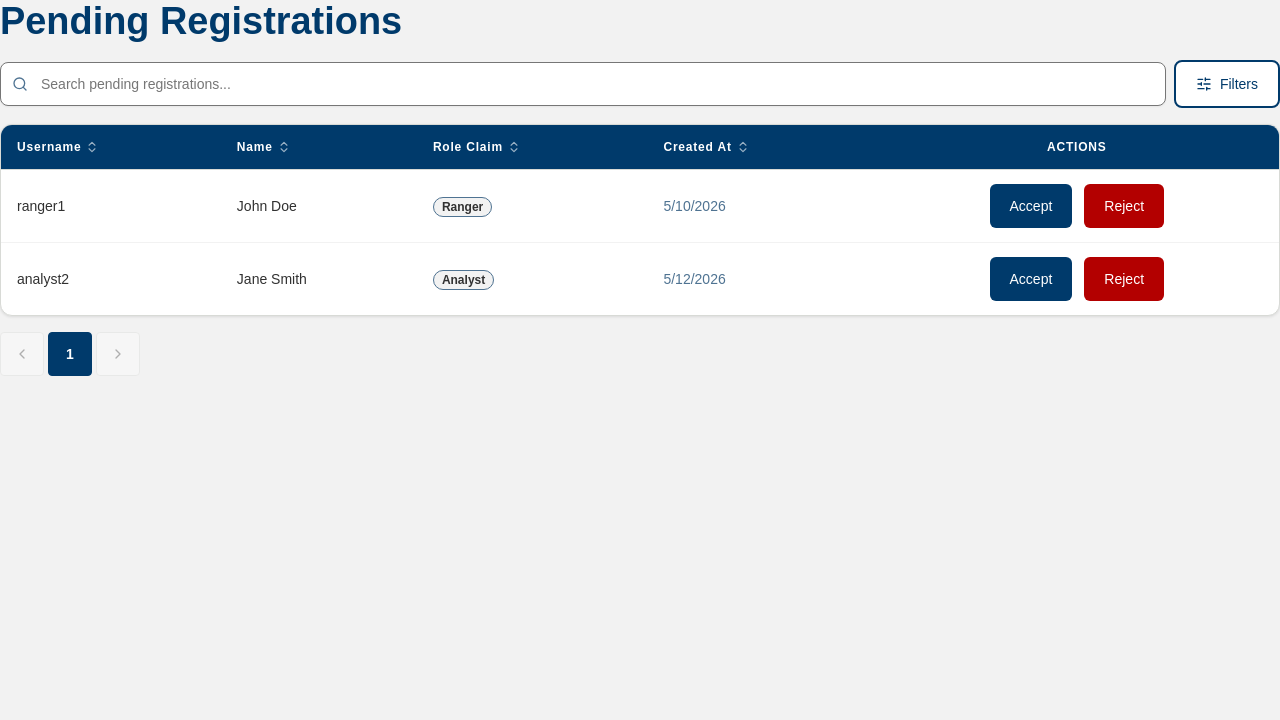
Authpage - Pending Registrations › closes the accept confirmation via the header close button
The image size is (1280, 720).
Click the button "Accept" in the row of "ranger1": coordinates (1031, 206) [988,182,1074,230]
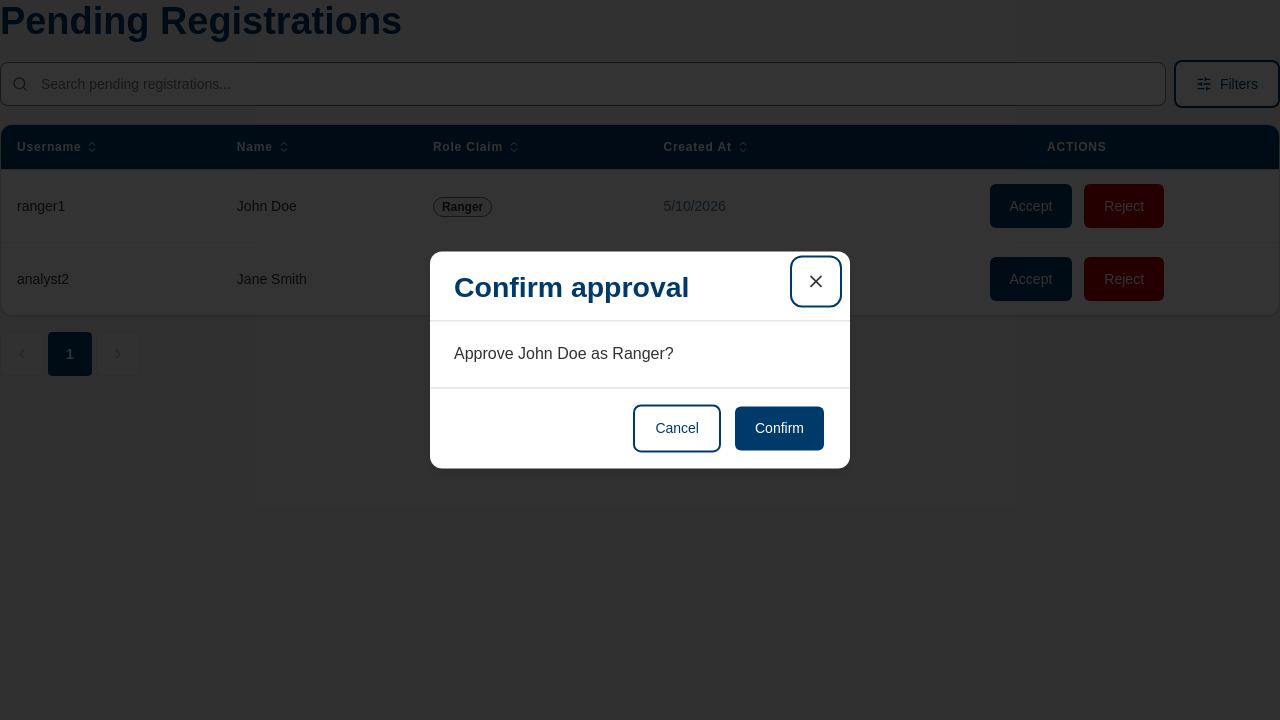
Click the button named "cancel, close dialog": coordinates (816, 281) [794,259,838,303]
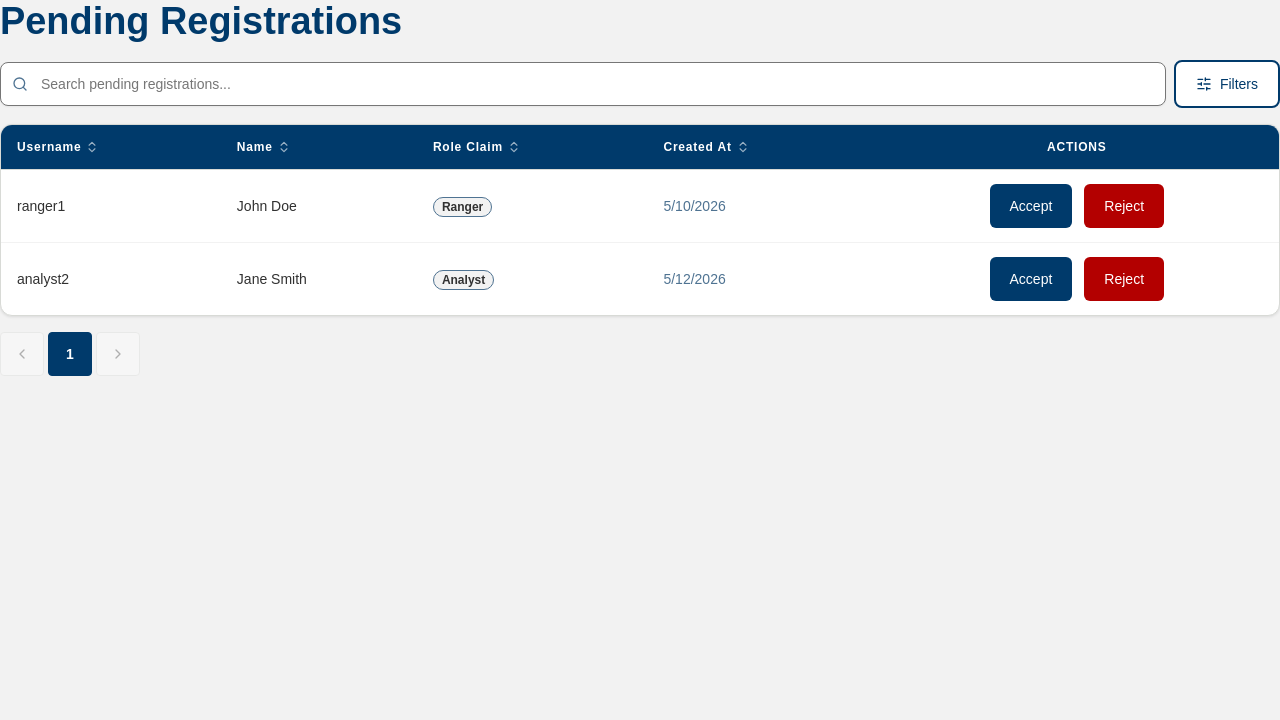
expect the dialog is gone: met
